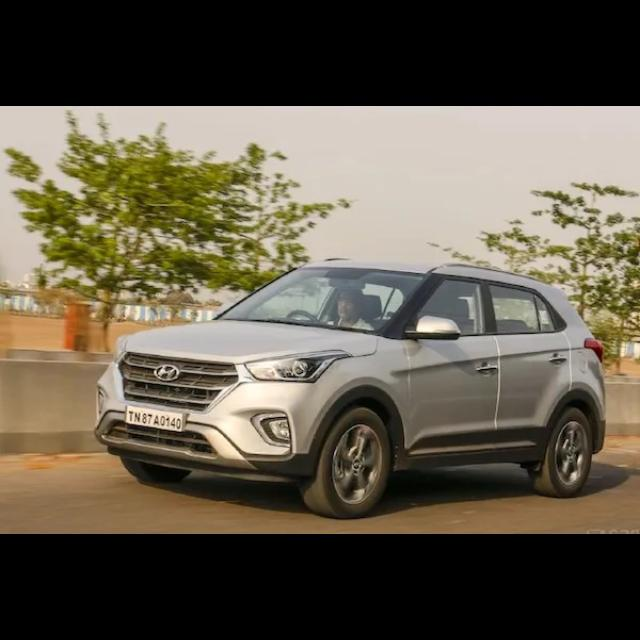number-plate: (125, 406, 184, 431)
vehicles: (92, 264, 608, 515)
